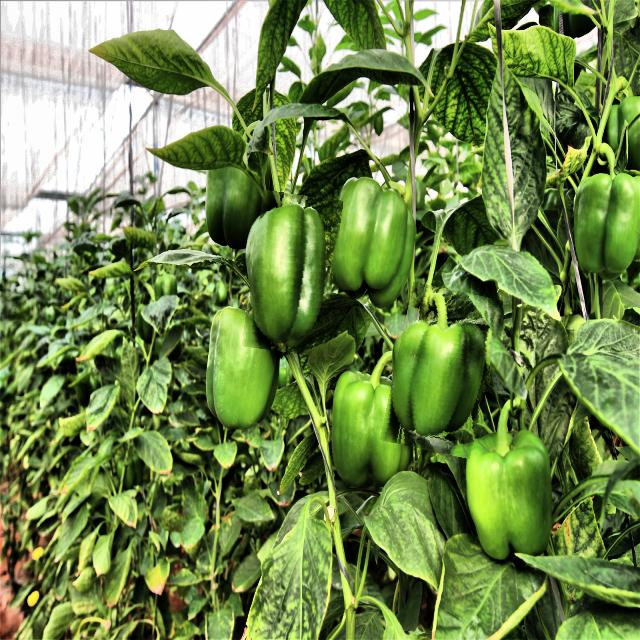capsicum: (388, 286, 496, 456), (247, 193, 338, 355)
